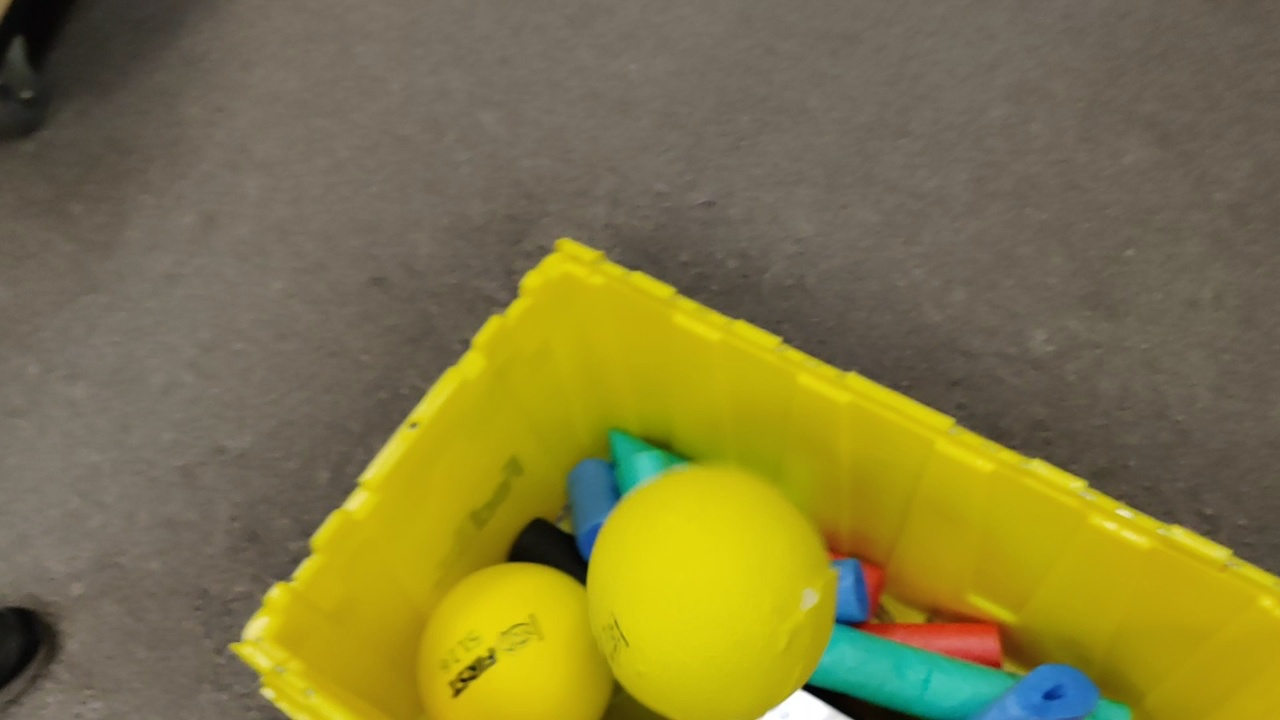Ball: (587, 463, 834, 720), (402, 559, 602, 720)
